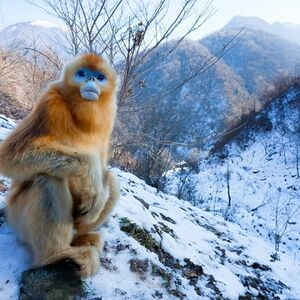GoldenSnub-Nosed: (1, 52, 140, 267)
